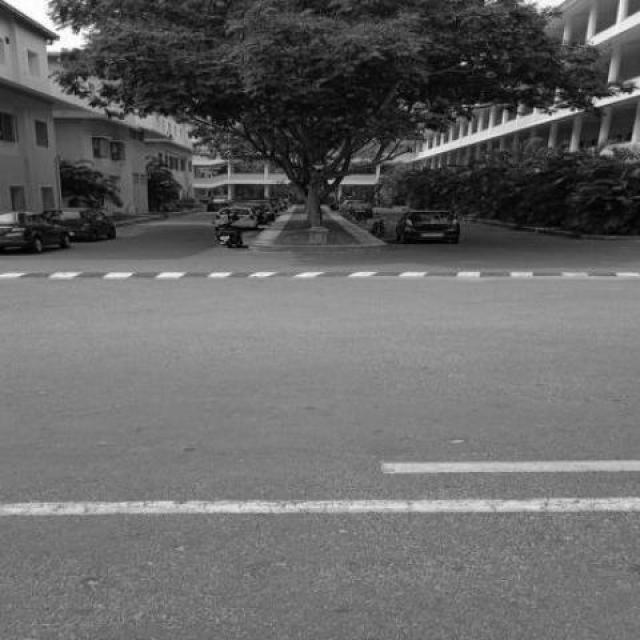Speed Bump: (0, 270, 639, 281)
